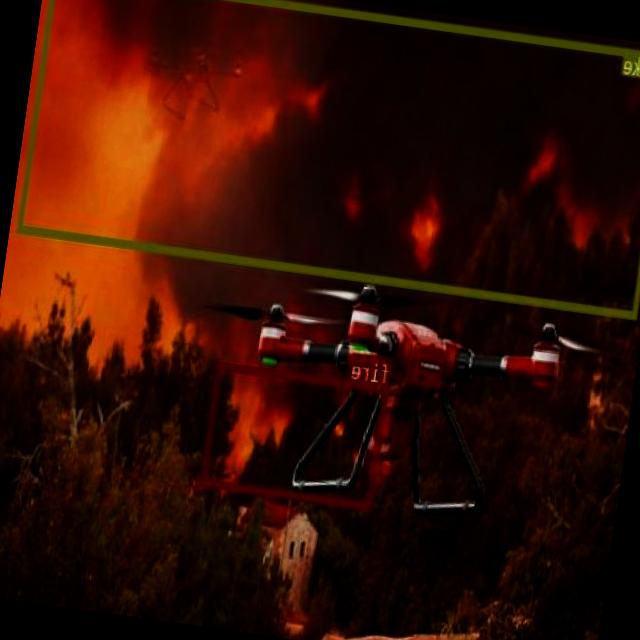fire: (202, 361, 391, 509)
smoke: (18, 0, 640, 318)
